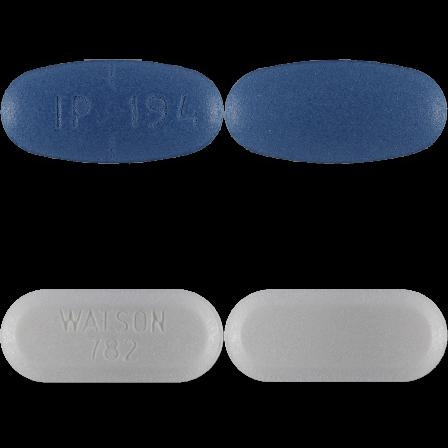55289-367: (0, 0, 224, 224)
